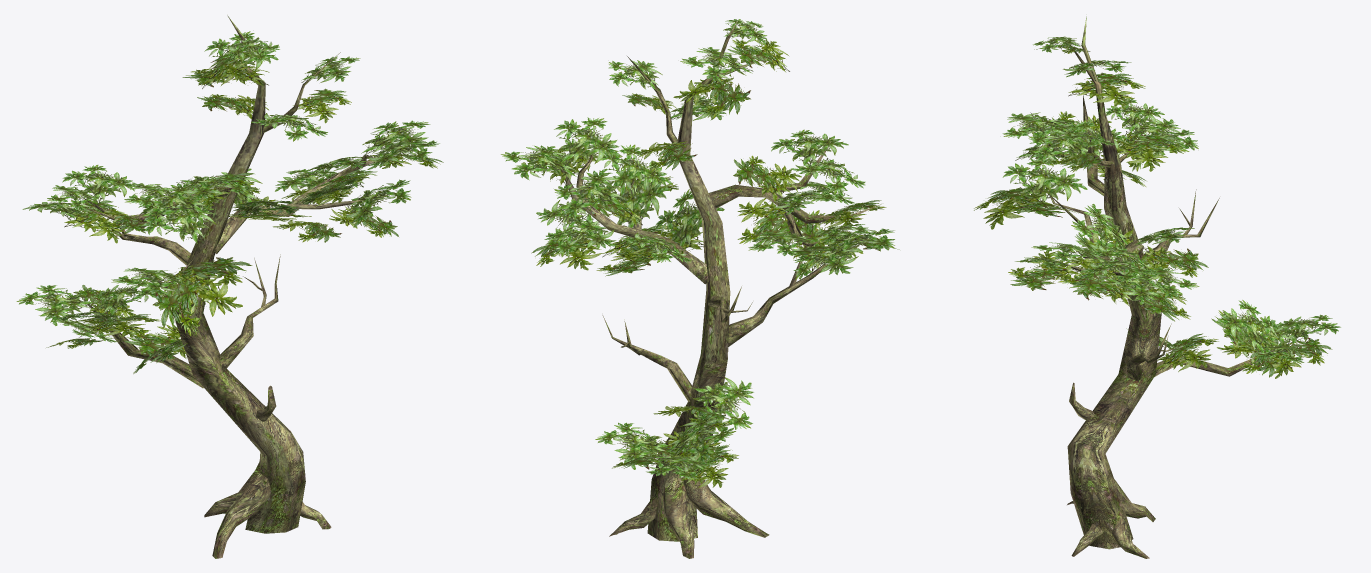
The model's file is S_Tree_Green048.FBX.
3 renders of one model, left to right at view 1: azimuth 30°, elevation 25°; view 2: azimuth 150°, elevation 25°; view 3: azimuth 270°, elevation 25°, orthographic. The views are drawn at different scales.
Visible parts, largest first — view 1: S_Tree_Green048; view 2: S_Tree_Green048; view 3: S_Tree_Green048.
Boxes of the visible parts, <box> form: S_Tree_Green048: <box>16,15,443,558</box>; S_Tree_Green048: <box>501,19,899,558</box>; S_Tree_Green048: <box>974,16,1340,558</box>.
Bounding box in the file's own units: 427 × 398 × 538.
